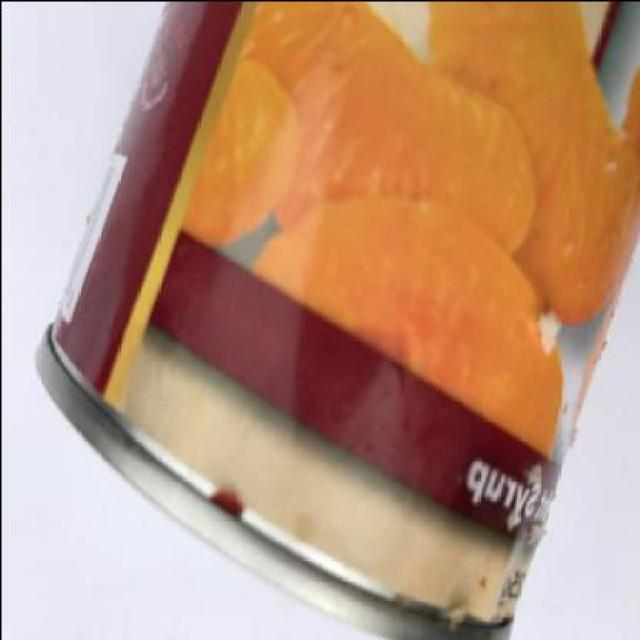METAL: (31, 1, 638, 638)
